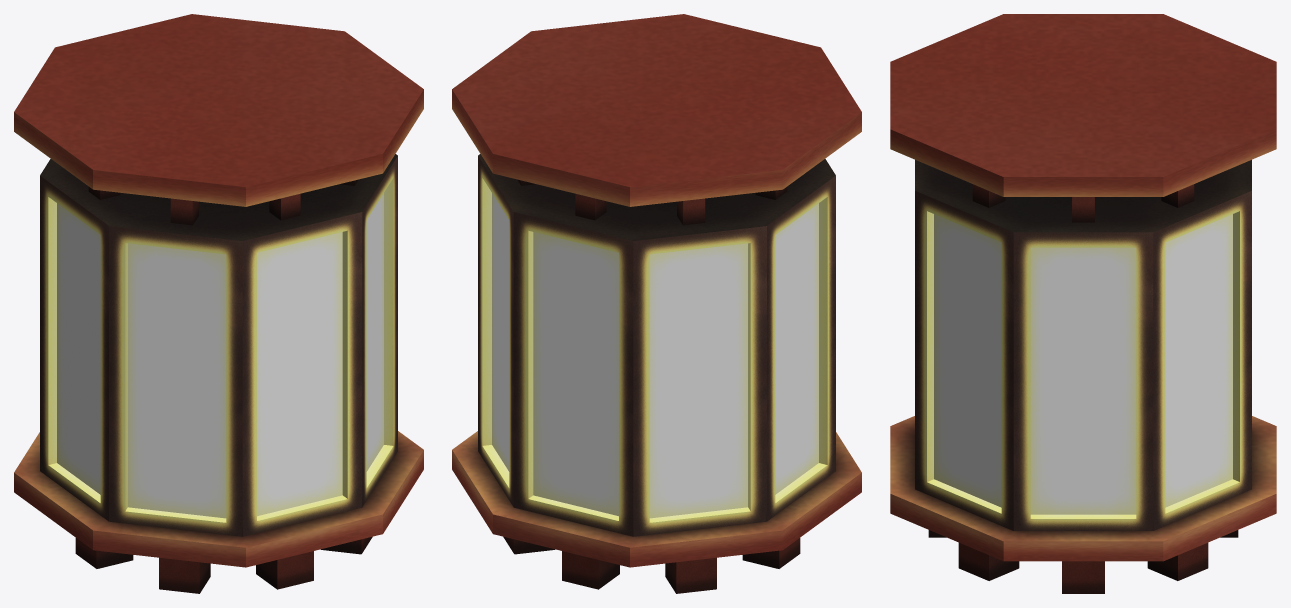
File: Lanterne_Sol_3.FBX
3 renders of one model, left to right at view 1: azimuth 30°, elevation 25°; view 2: azimuth 150°, elevation 25°; view 3: azimuth 270°, elevation 25°, orthographic.
Visible parts, largest first — view 1: Lanterne_Sol_3; view 2: Lanterne_Sol_3; view 3: Lanterne_Sol_3.
Part boxes in pixels (bbox=[...]): Lanterne_Sol_3: bbox=[14, 14, 423, 593]; Lanterne_Sol_3: bbox=[452, 14, 861, 593]; Lanterne_Sol_3: bbox=[890, 14, 1276, 593].
Size of the model in its own units: 162 by 200 by 162.
